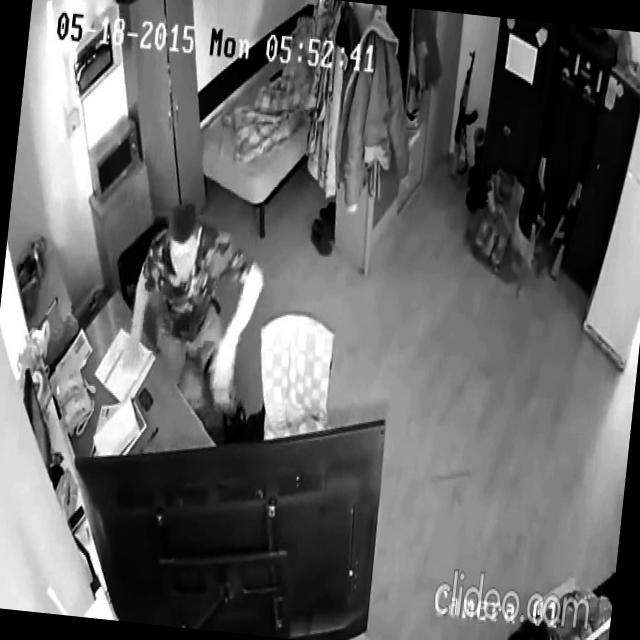gun: (542, 126, 596, 286), (524, 104, 564, 270), (448, 44, 485, 180)
person: (121, 192, 273, 424)
